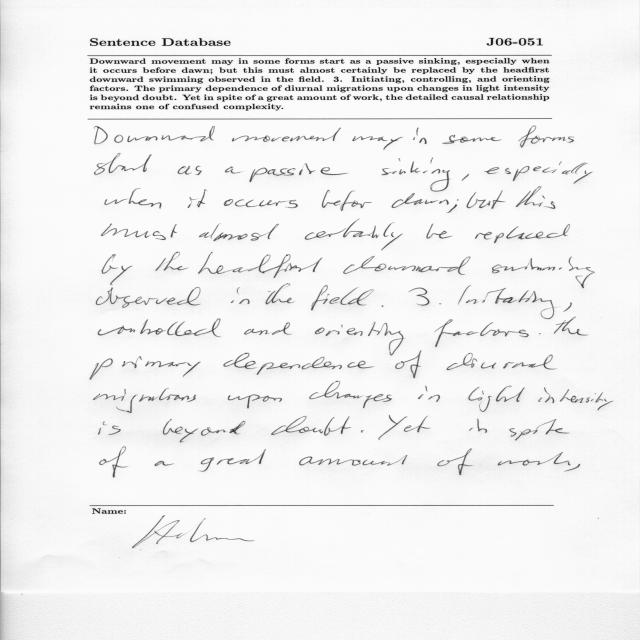word: (223, 352, 374, 375), (459, 285, 555, 319), (198, 252, 322, 278), (492, 257, 595, 288), (305, 219, 403, 250), (315, 322, 404, 356), (90, 356, 201, 380), (434, 319, 529, 347), (93, 388, 196, 413), (484, 161, 593, 184), (343, 256, 471, 275), (382, 158, 451, 192), (98, 319, 221, 338), (309, 381, 392, 408), (96, 287, 201, 308), (94, 126, 215, 144), (163, 419, 245, 442), (250, 163, 349, 182), (447, 353, 557, 370), (475, 224, 570, 243), (538, 388, 614, 411), (498, 452, 580, 472), (232, 127, 341, 142), (271, 416, 351, 436), (311, 285, 374, 310), (198, 449, 266, 472), (468, 386, 525, 412), (199, 224, 279, 241), (379, 415, 431, 440), (102, 223, 178, 240), (510, 419, 570, 440), (95, 153, 152, 175), (519, 126, 575, 148), (300, 455, 408, 466), (105, 188, 161, 209), (322, 190, 372, 211), (437, 449, 473, 476), (102, 254, 132, 285), (516, 186, 556, 209), (100, 447, 128, 478), (392, 193, 449, 208), (228, 395, 282, 409), (466, 190, 505, 209), (352, 136, 403, 150), (396, 351, 422, 378), (224, 199, 298, 208), (156, 252, 189, 271), (554, 318, 588, 336), (266, 284, 294, 305), (443, 135, 502, 144), (426, 224, 453, 239), (409, 288, 430, 306), (188, 189, 207, 208), (418, 386, 440, 402), (231, 287, 250, 304), (98, 421, 121, 435), (469, 418, 487, 433), (272, 322, 292, 335), (413, 127, 427, 144), (178, 166, 202, 175), (446, 199, 459, 213), (244, 329, 270, 335), (225, 167, 241, 174), (154, 461, 174, 466), (563, 302, 572, 312), (462, 174, 469, 181), (361, 430, 364, 433), (568, 462, 571, 465), (382, 305, 384, 307), (439, 303, 441, 304), (539, 333, 541, 334)
